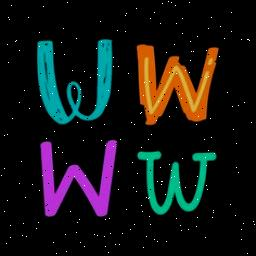w: (27, 27, 117, 131), (134, 39, 224, 129), (36, 137, 124, 223), (134, 144, 220, 220)
